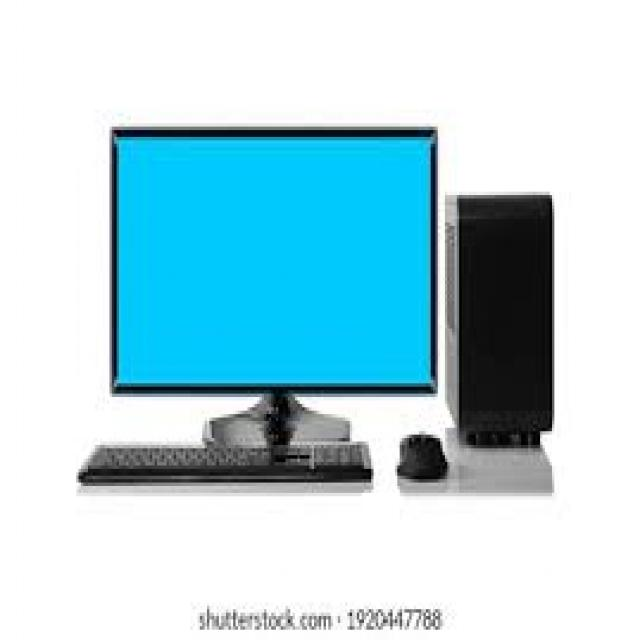Computer: (446, 159, 560, 453)
Monitor: (101, 106, 441, 405)
